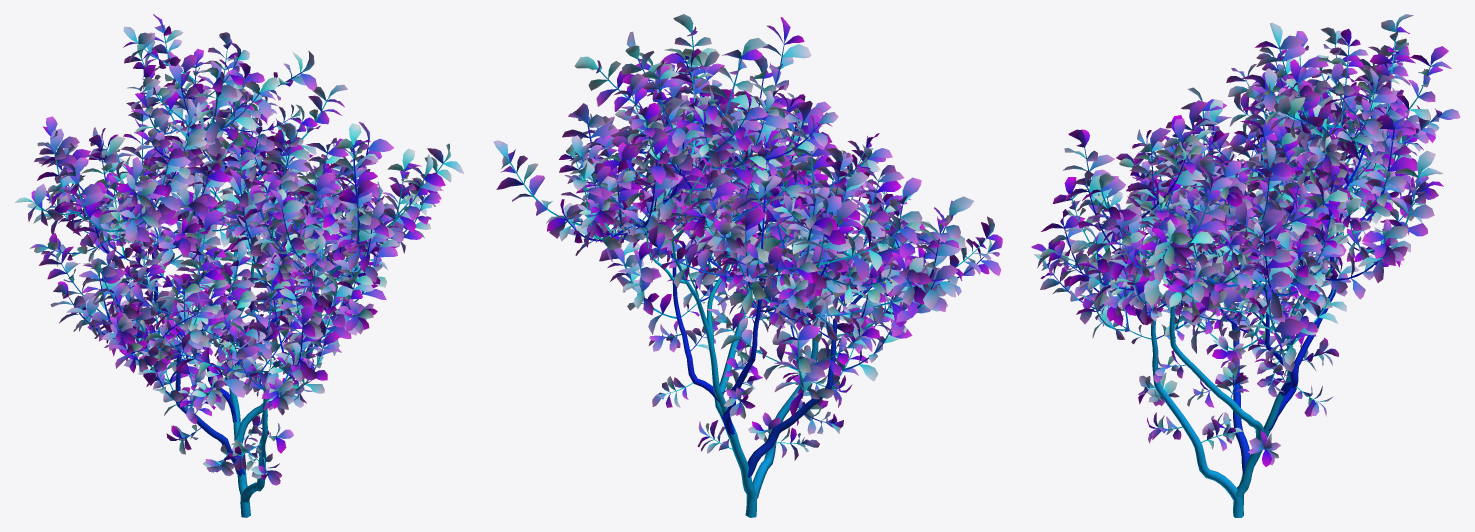
File: European_Spindle_wk1ncbxja_Mid_wk1ncbxja_VarE_LOD1.fbx
3 renders of one model, left to right at view 1: azimuth 30°, elevation 25°; view 2: azimuth 150°, elevation 25°; view 3: azimuth 270°, elevation 25°, orthographic. The views are drawn at different scales.
Visible parts, largest first — view 1: _0i9b_VarE_LOD2; view 2: _0i9b_VarE_LOD2; view 3: _0i9b_VarE_LOD2.
Boxes of the visible parts, bbox=[...] form: _0i9b_VarE_LOD2: bbox=[15, 14, 464, 517]; _0i9b_VarE_LOD2: bbox=[493, 14, 1002, 517]; _0i9b_VarE_LOD2: bbox=[1031, 14, 1460, 517].
Bounding box in the file's own units: 226 × 258 × 208.
